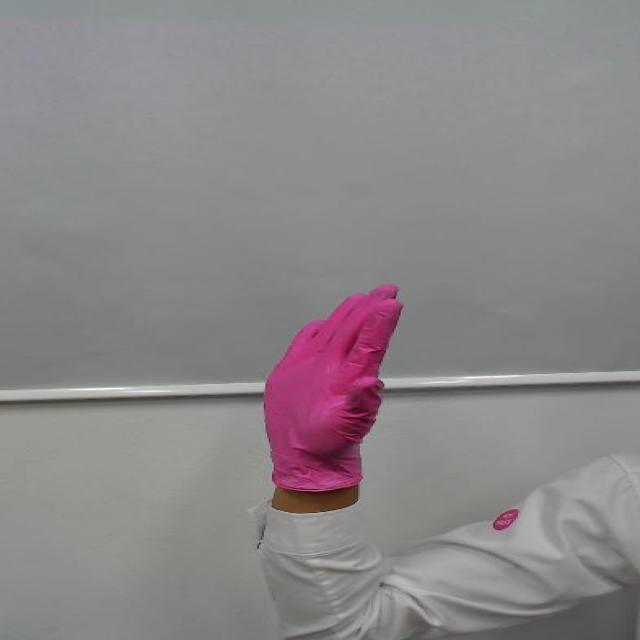gloved_hand: (239, 271, 422, 445)
